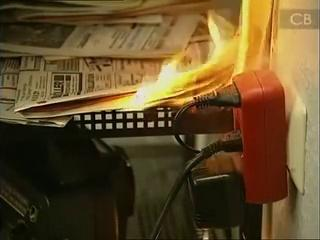Fire: (115, 1, 274, 118)
